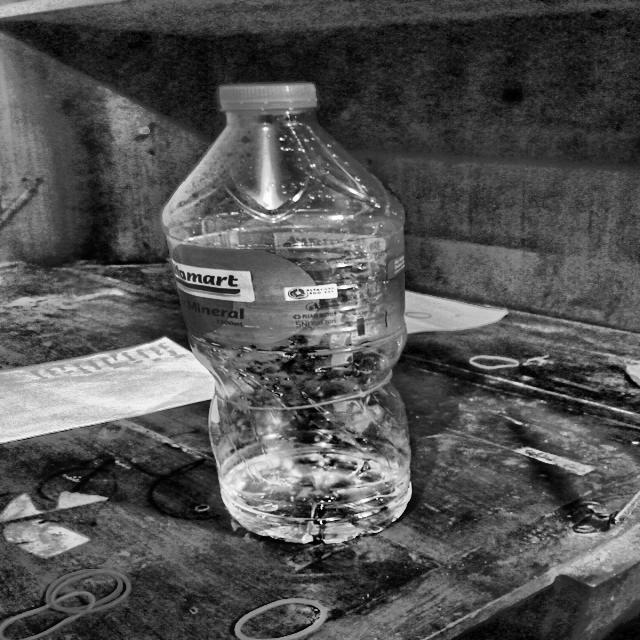Bottle: (158, 80, 415, 544)
